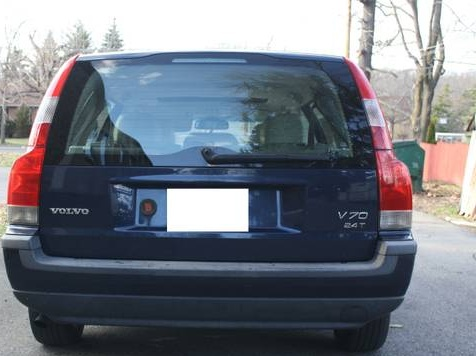volvo: (1, 29, 466, 356)
